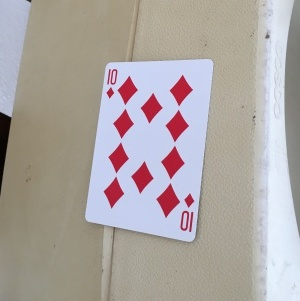card: (84, 58, 215, 243)
